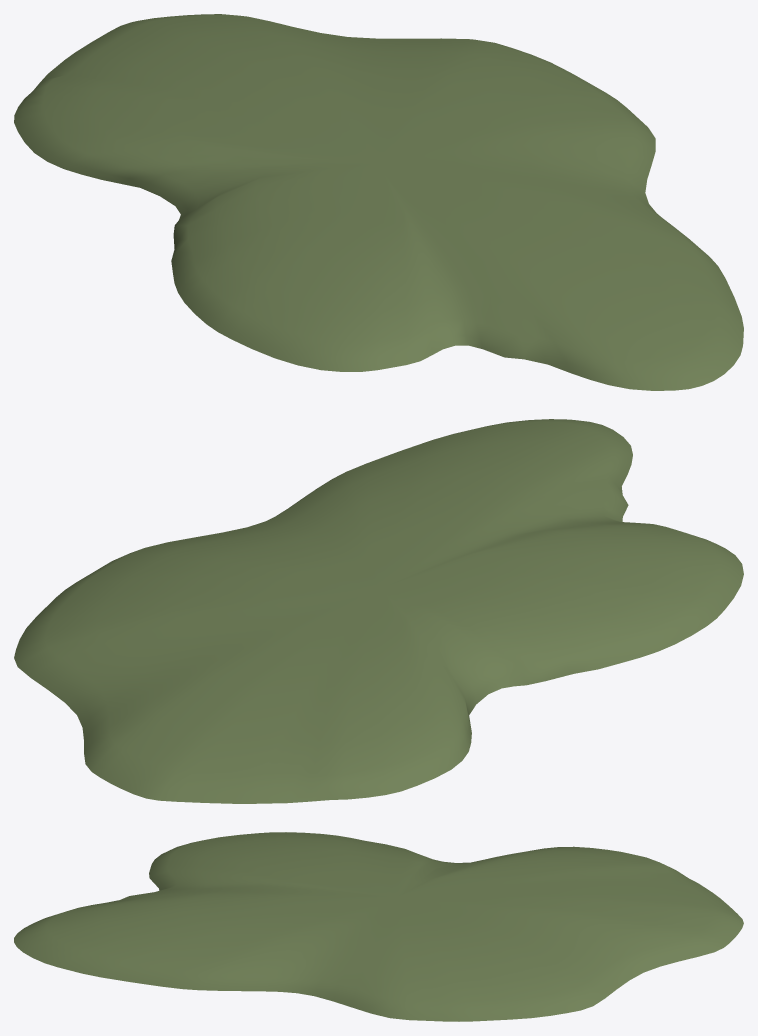
File: Slime4fbx.fbx
The picture shows the model from 3 angles, top to bottom: view 1: azimuth 30°, elevation 25°; view 2: azimuth 150°, elevation 25°; view 3: azimuth 270°, elevation 25°; orthographic projection. The views are drawn at different scales.
Visible parts, largest first — view 1: Slime4; view 2: Slime4; view 3: Slime4.
Boxes of the visible parts, x1,y1,x2,y2 form: Slime4: [14, 14, 743, 390]; Slime4: [14, 419, 743, 803]; Slime4: [14, 832, 743, 1021].
Bounding box in the file's own units: 1.59 × 0.1069 × 2.63.
